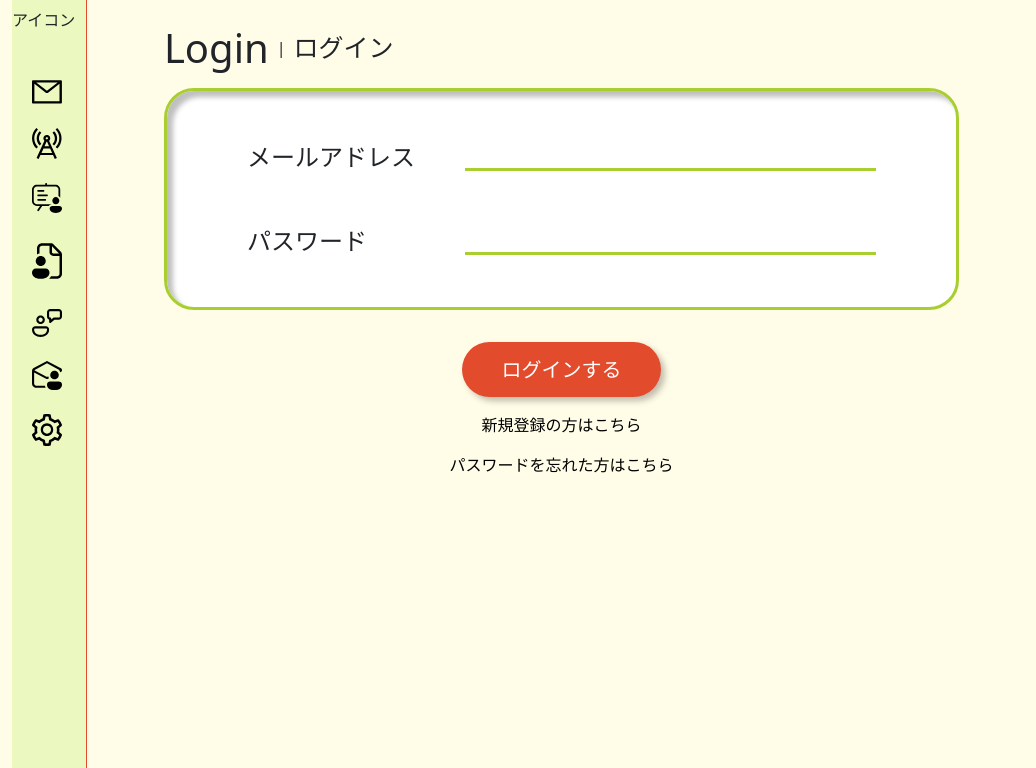
Test: ログイン › パスワードを入れないとバリデーションメッセージが表示される
Type "test@example.com" into the field with test id "login-input-email" at (670, 157), box [465,143,876,171]
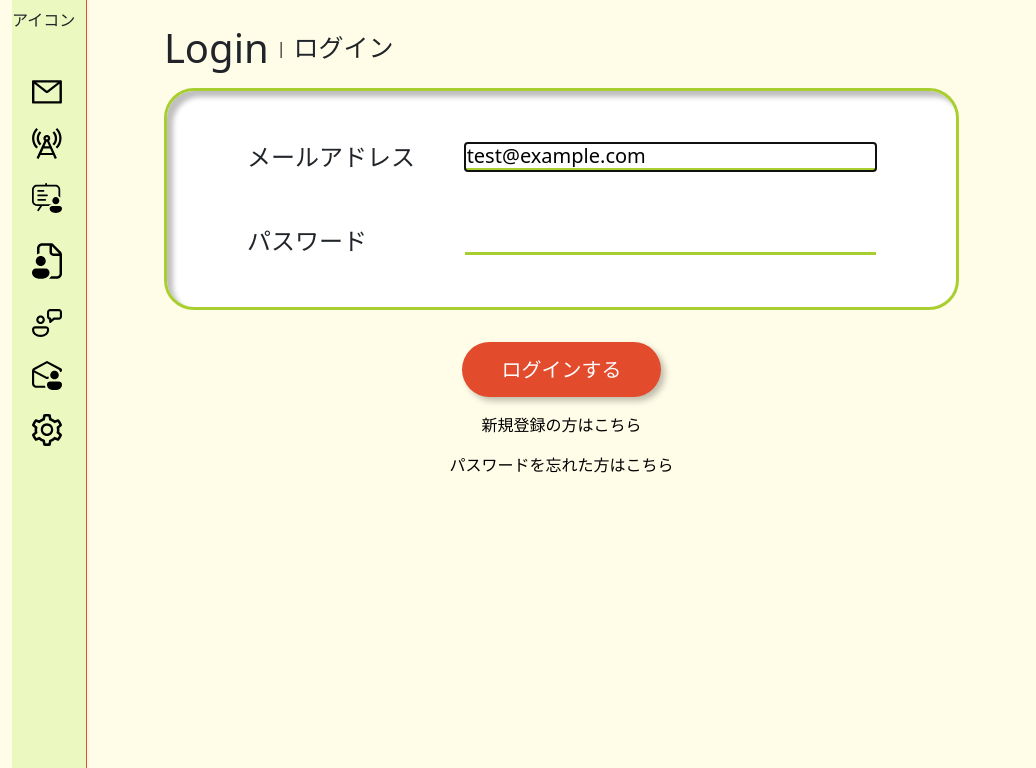
Click the button at (562, 370), box [462,342,661,397]
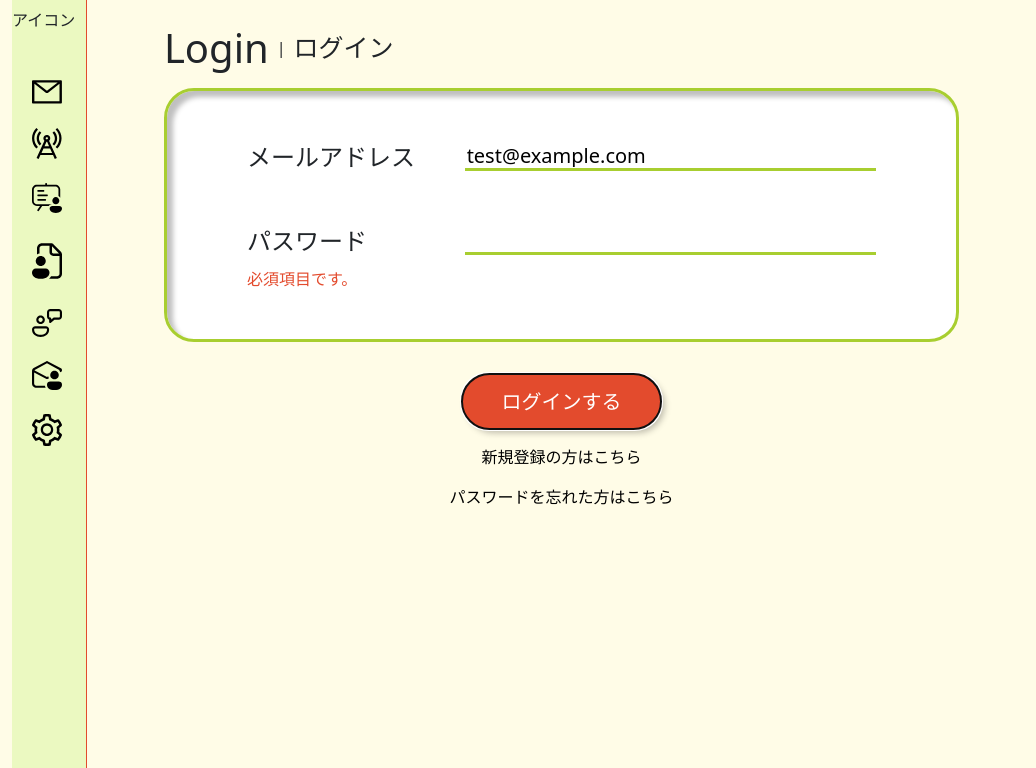
Result: the text "必須項目です。" is shown at [247,268,357,290]
